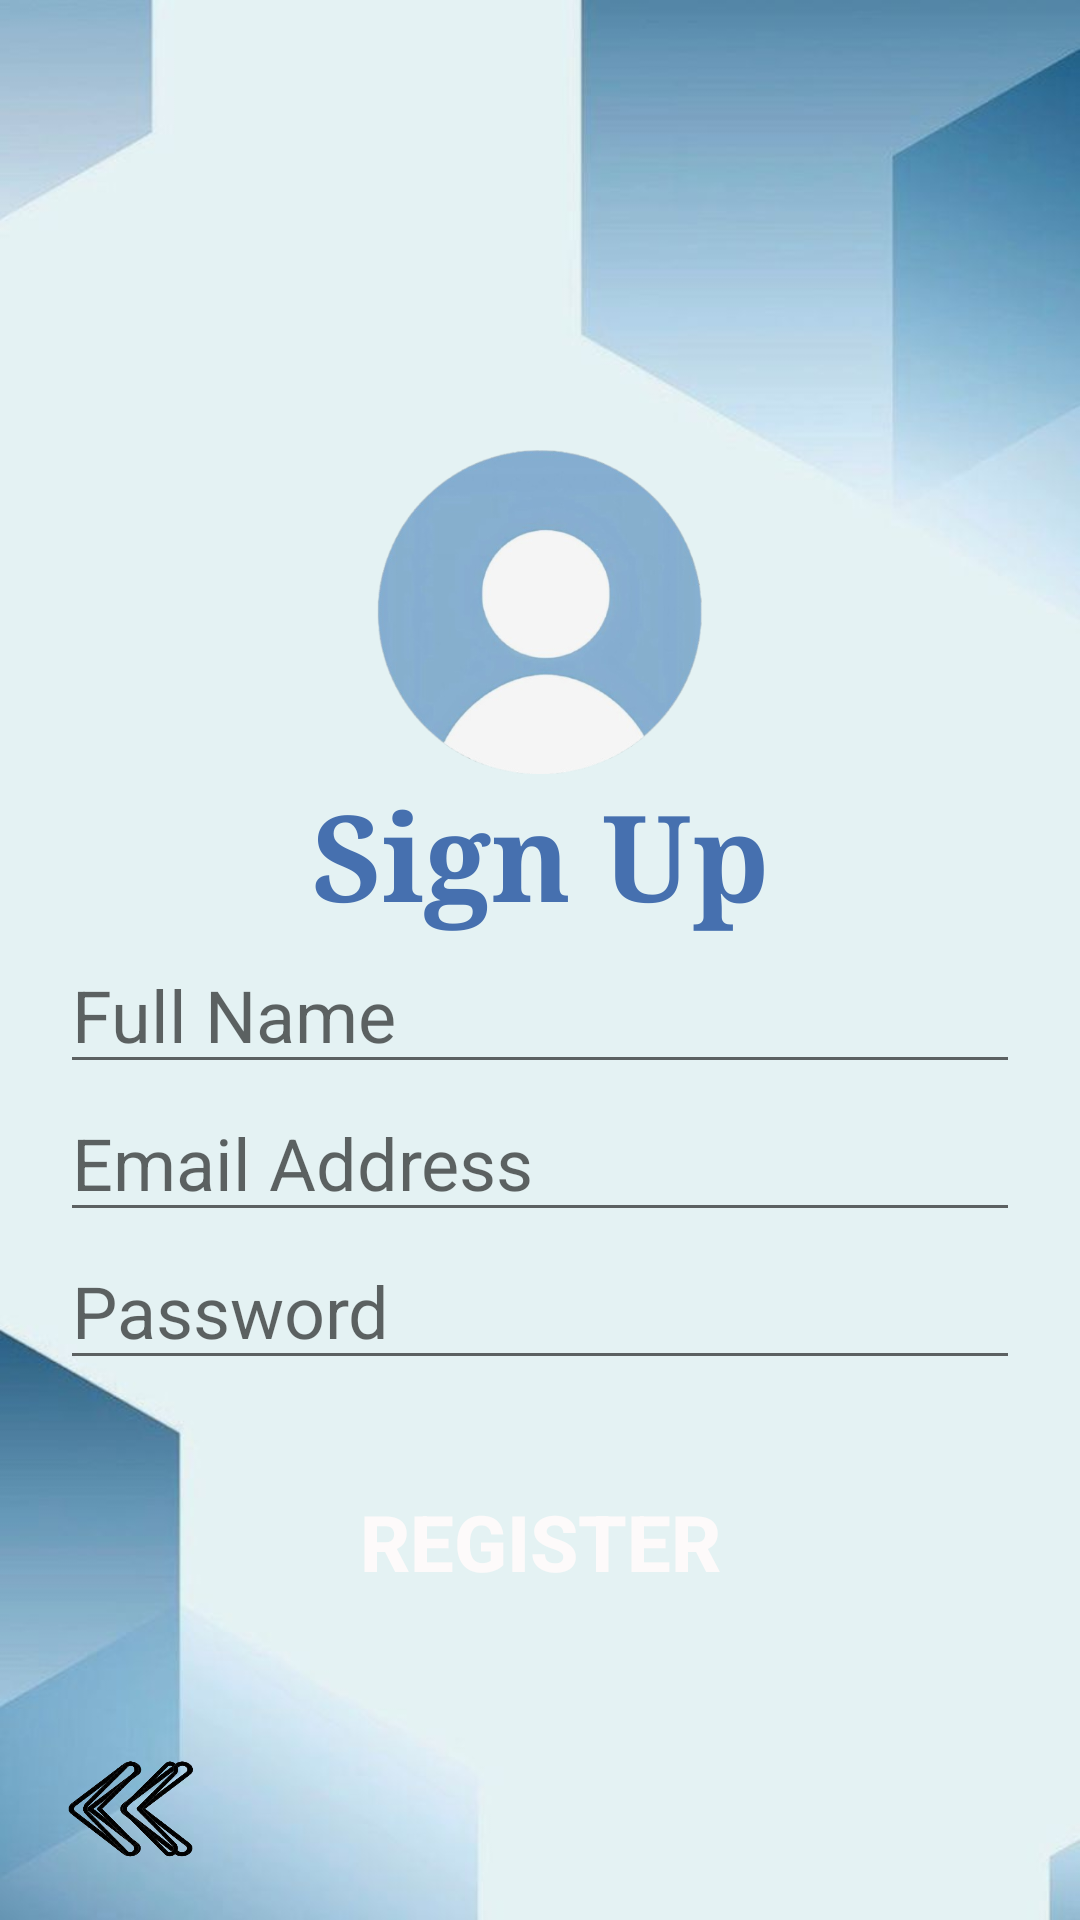

Named icons in this screenshot (1080×1920) and their bounding boxes, {"x1": x1, "y1": y1, "x2": x2, "y2": y2}:
this is back button: {"x1": 68, "y1": 1746, "x2": 213, "y2": 1872}
